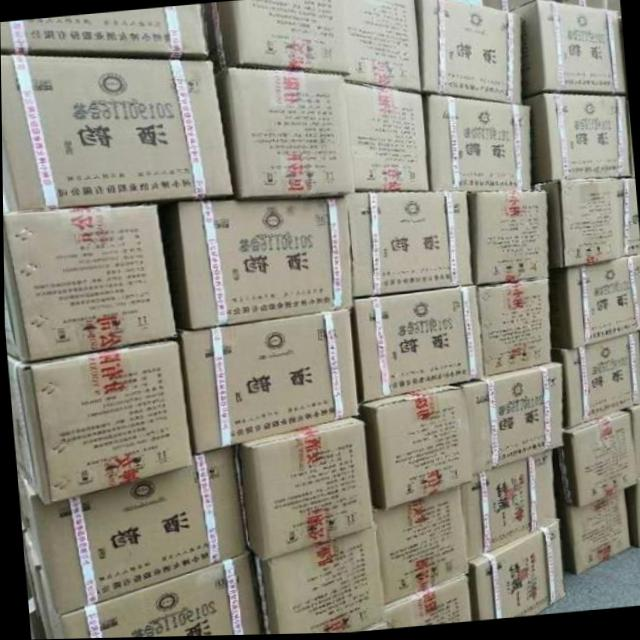box: (1, 55, 234, 214), (24, 446, 242, 612), (7, 337, 192, 508), (2, 205, 179, 364), (154, 197, 354, 331), (24, 533, 260, 639), (181, 311, 354, 454), (232, 418, 372, 561), (213, 66, 354, 204), (353, 284, 482, 407), (245, 524, 385, 636), (357, 388, 472, 511), (348, 193, 473, 299), (457, 364, 566, 477), (199, 0, 349, 77), (0, 7, 210, 59), (373, 487, 467, 603), (422, 98, 532, 194), (420, 0, 520, 104), (517, 97, 631, 187), (528, 179, 638, 271), (461, 450, 552, 561), (548, 406, 640, 510), (465, 523, 561, 622), (346, 81, 429, 193), (549, 332, 640, 430), (546, 257, 640, 350), (343, 0, 423, 95), (473, 282, 550, 380), (469, 194, 547, 288), (552, 494, 631, 576), (385, 573, 468, 629), (617, 480, 640, 550)
